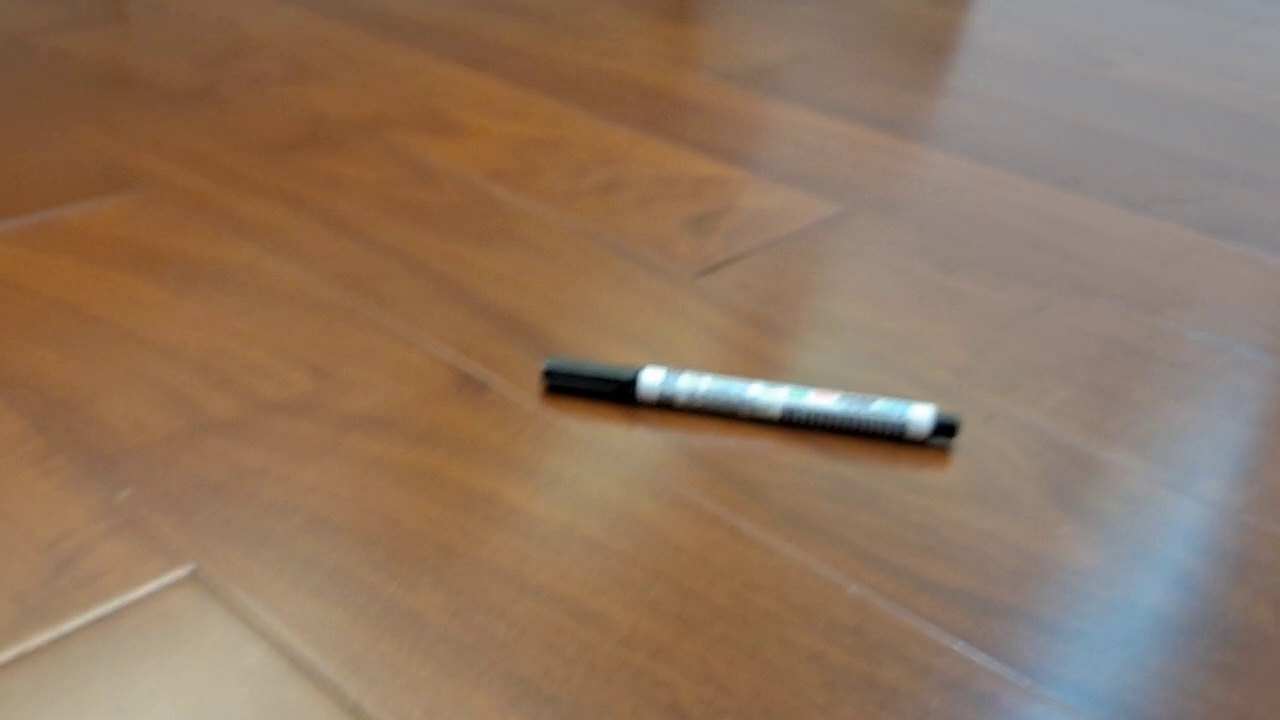pen: (540, 353, 961, 443)
